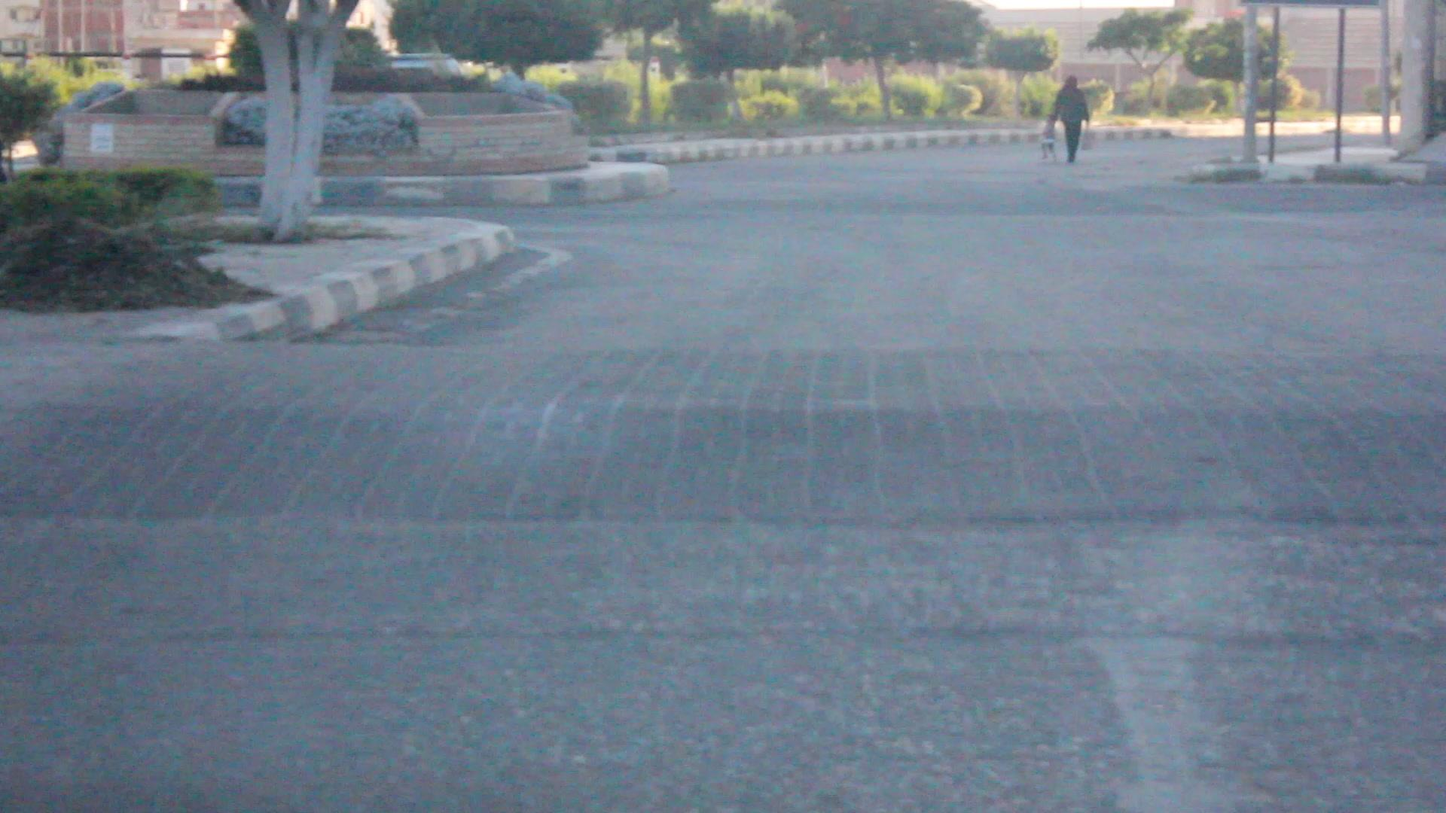Bump: (36, 341, 1446, 548)
